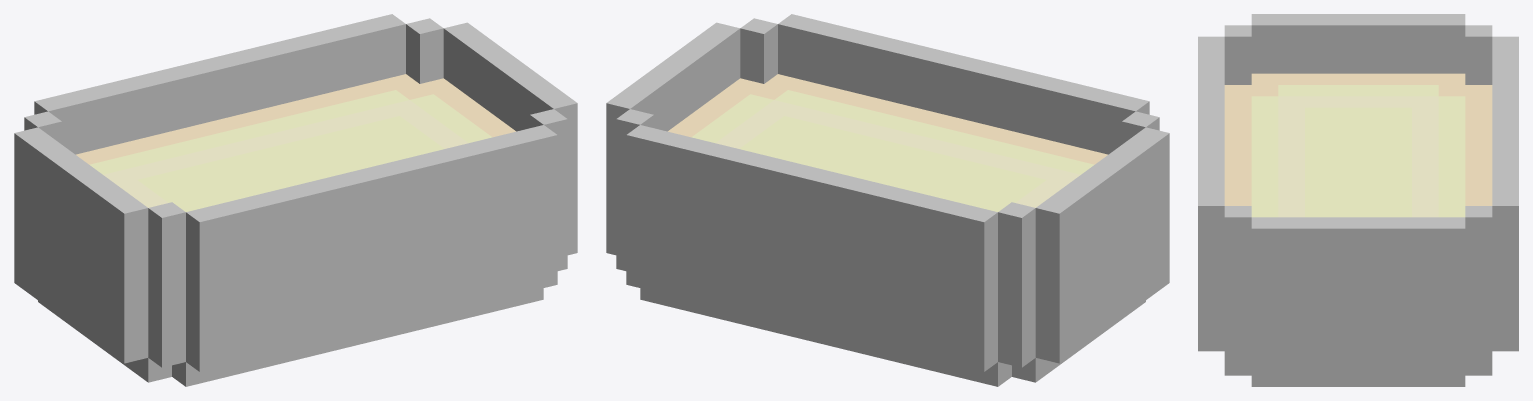
The model's file is tenpurako youki ver2.obj.
3 views of the same model, side by side, from view 1: azimuth 30°, elevation 25°; view 2: azimuth 150°, elevation 25°; view 3: azimuth 270°, elevation 25° (orthographic). The views are drawn at different scales.
Bounding box in the file's own units: 1.9 × 0.7 × 1.2.
1 material, 1 textured.
